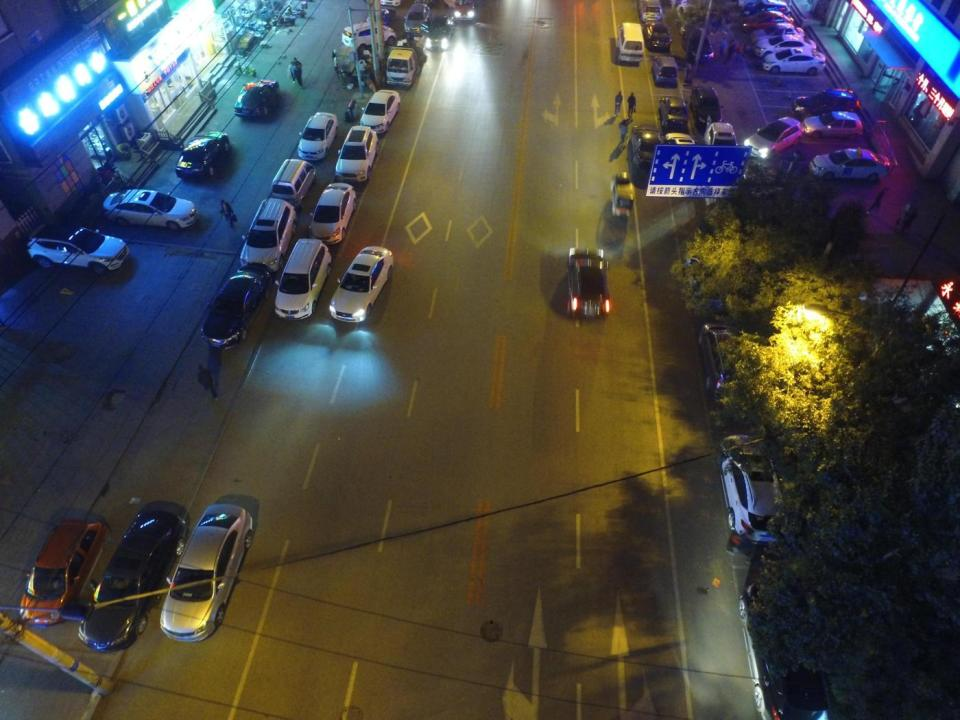car: (78, 502, 190, 652), (738, 579, 832, 718), (164, 503, 252, 645), (18, 516, 107, 627), (716, 433, 788, 546), (203, 264, 270, 349), (26, 222, 130, 275), (328, 245, 393, 323), (241, 197, 297, 275), (701, 317, 749, 398), (103, 188, 197, 229), (567, 247, 612, 319), (809, 142, 890, 182), (684, 253, 736, 314), (309, 184, 355, 244), (335, 124, 380, 183), (175, 130, 228, 179), (743, 117, 804, 159), (790, 88, 860, 119), (233, 78, 280, 120), (298, 112, 338, 160), (803, 110, 863, 142), (358, 88, 400, 130), (762, 49, 828, 75), (340, 22, 397, 50), (705, 122, 740, 167), (632, 125, 665, 170), (689, 84, 722, 129), (755, 34, 816, 56), (665, 133, 700, 169), (427, 14, 456, 51), (684, 25, 713, 62), (612, 175, 637, 217), (657, 98, 688, 130), (744, 11, 796, 30), (404, 3, 432, 38), (740, 0, 790, 18), (749, 24, 804, 40), (644, 20, 672, 51), (676, 3, 700, 36), (652, 57, 678, 86), (369, 7, 397, 29), (636, 0, 664, 22), (455, 0, 477, 20)
truck: (386, 34, 426, 88)
van: (276, 238, 332, 326), (269, 158, 317, 211), (616, 22, 648, 64)
